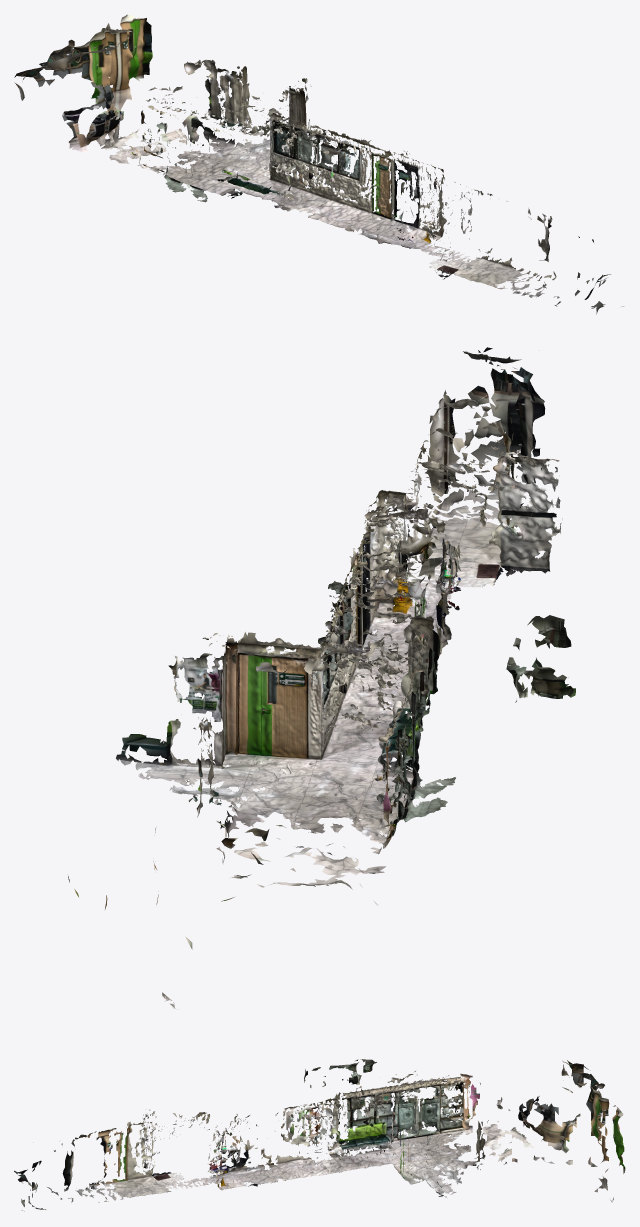
Rendered from 147308-TLT6SampingPoliEksekutif-tex.glb.
The picture shows the model from 3 angles, top to bottom: view 1: azimuth 30°, elevation 25°; view 2: azimuth 150°, elevation 25°; view 3: azimuth 270°, elevation 25°; orthographic projection. The views are drawn at different scales.
Parts seen in each view (by area): view 1: Node; view 2: Node; view 3: Node.
Boxes of the visible parts, x1,y1,x2,y2 form: Node: (14, 14, 623, 314); Node: (68, 347, 575, 1008); Node: (14, 1059, 625, 1211).
Bounding box in the file's own units: 9.84 × 5.24 × 23.35.
35 materials, 35 textured.
